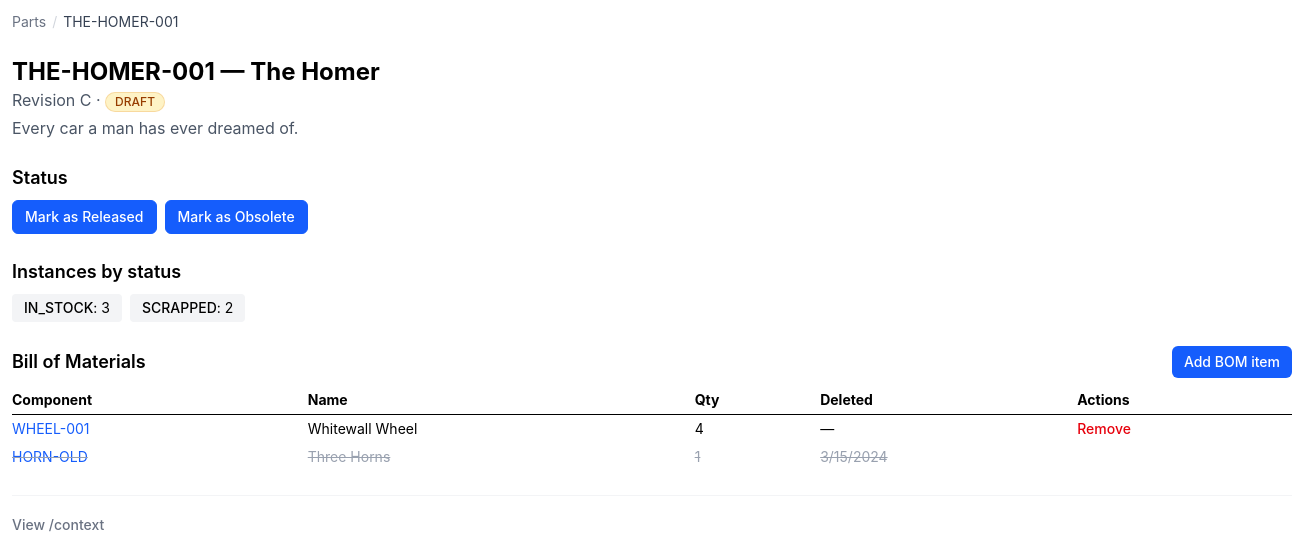
Test: PartDetail › shows a non-INVALID_TRANSITION error message verbatim
The width and height of the screenshot is (1304, 549).
Expected: the heading "THE-HOMER-001 — The Homer" is shown, [12, 57, 380, 86]
Click the button "Mark as Released" at x=84, y=217, box [12, 200, 156, 234]
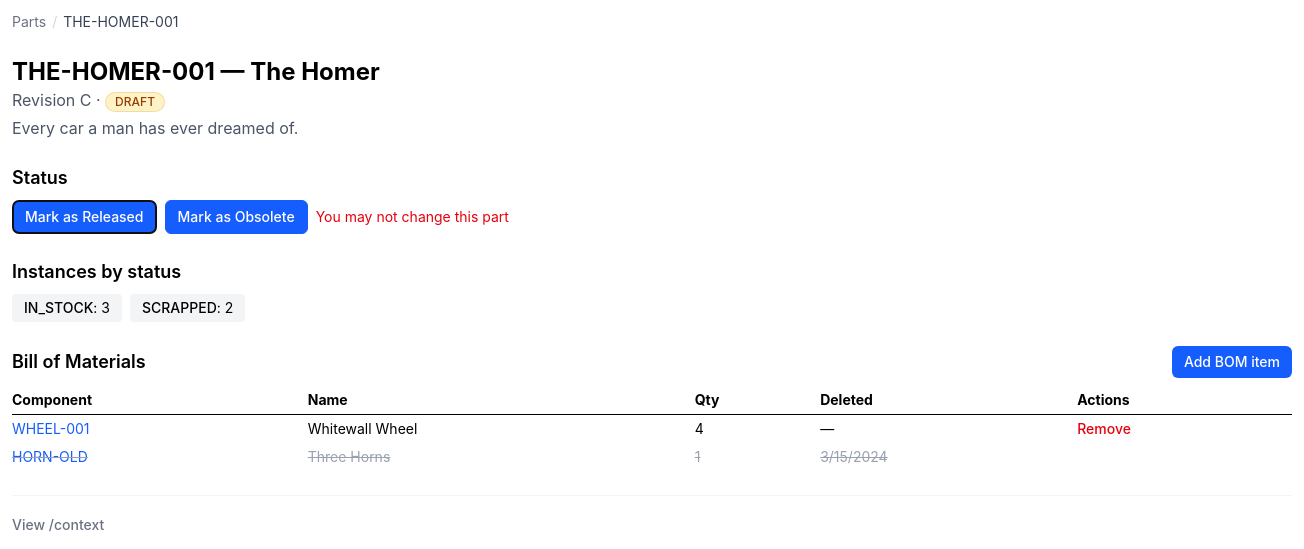
Result: the text "You may not change this part" is shown at [316, 207, 509, 227]
